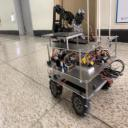cart: (42, 35, 118, 117)
